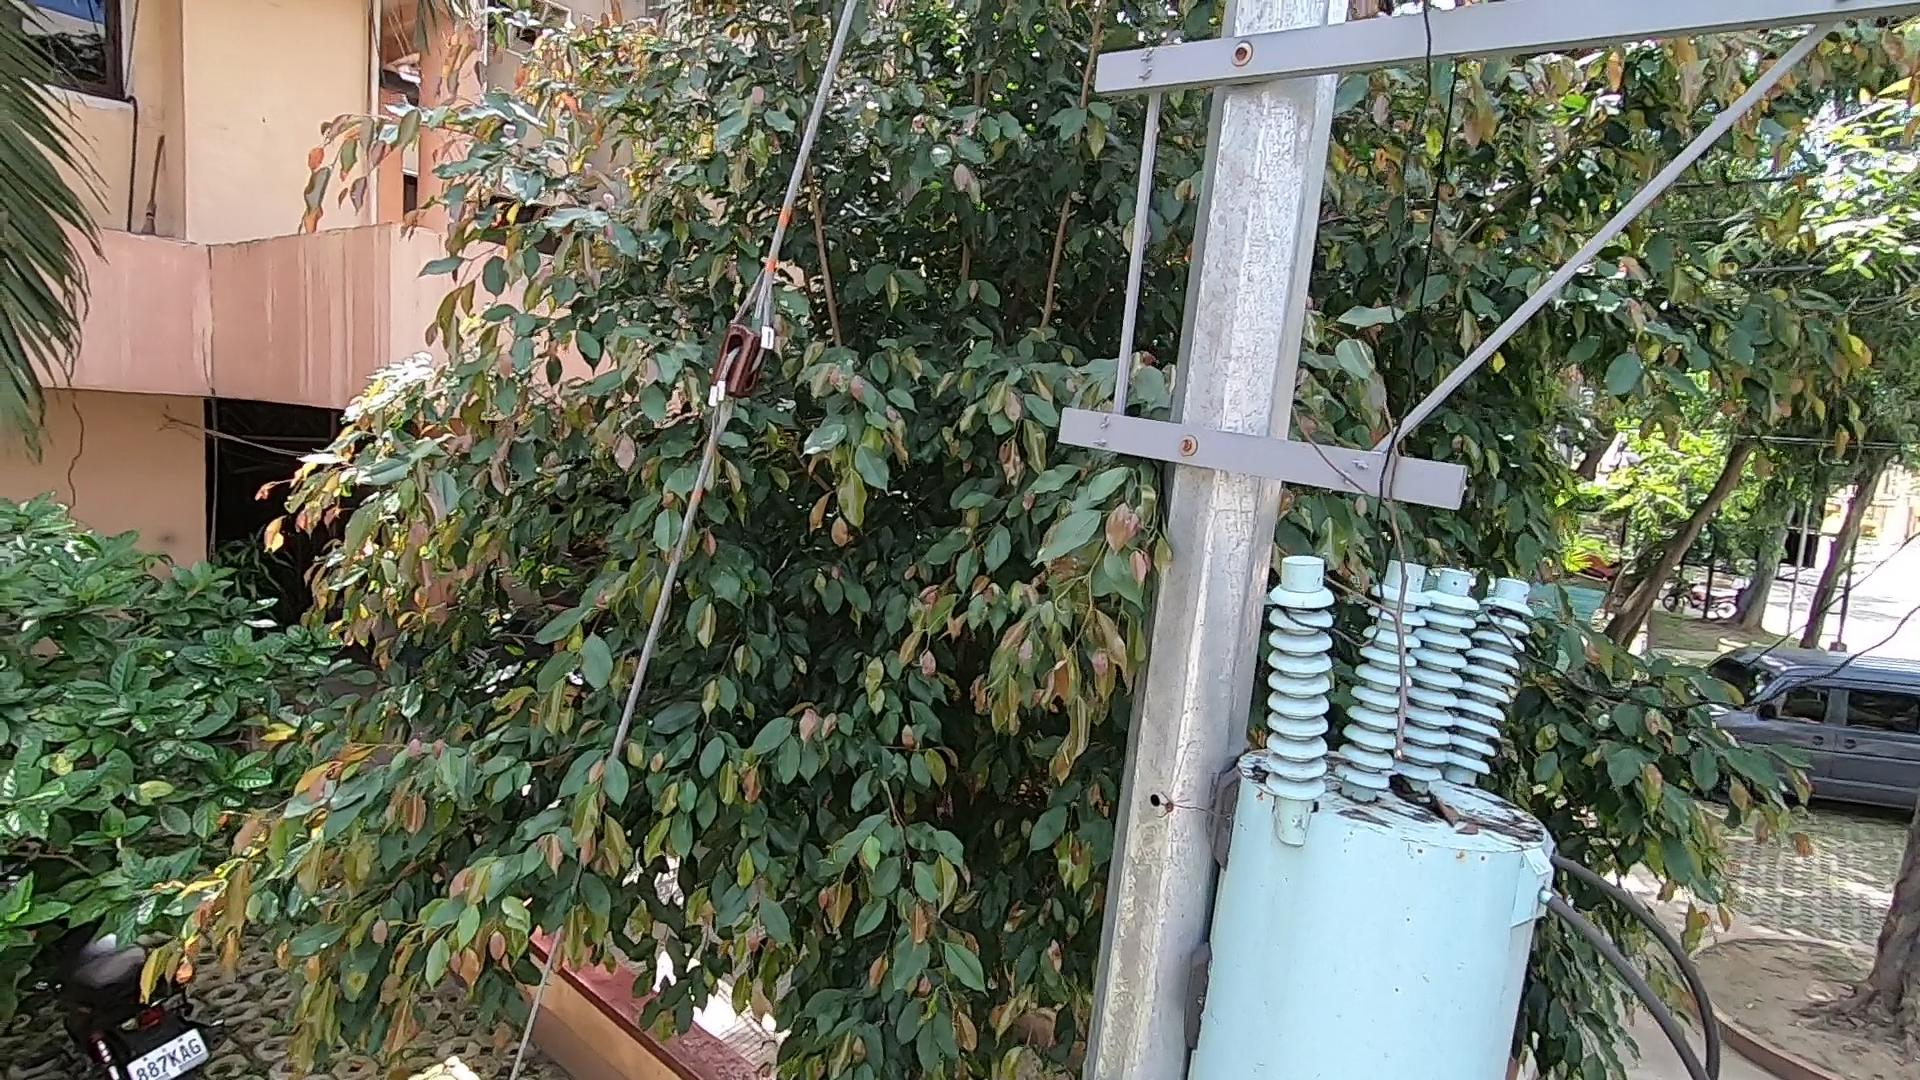leaf: (1390, 773, 1485, 843)
tree branch: (1263, 335, 1429, 762)
